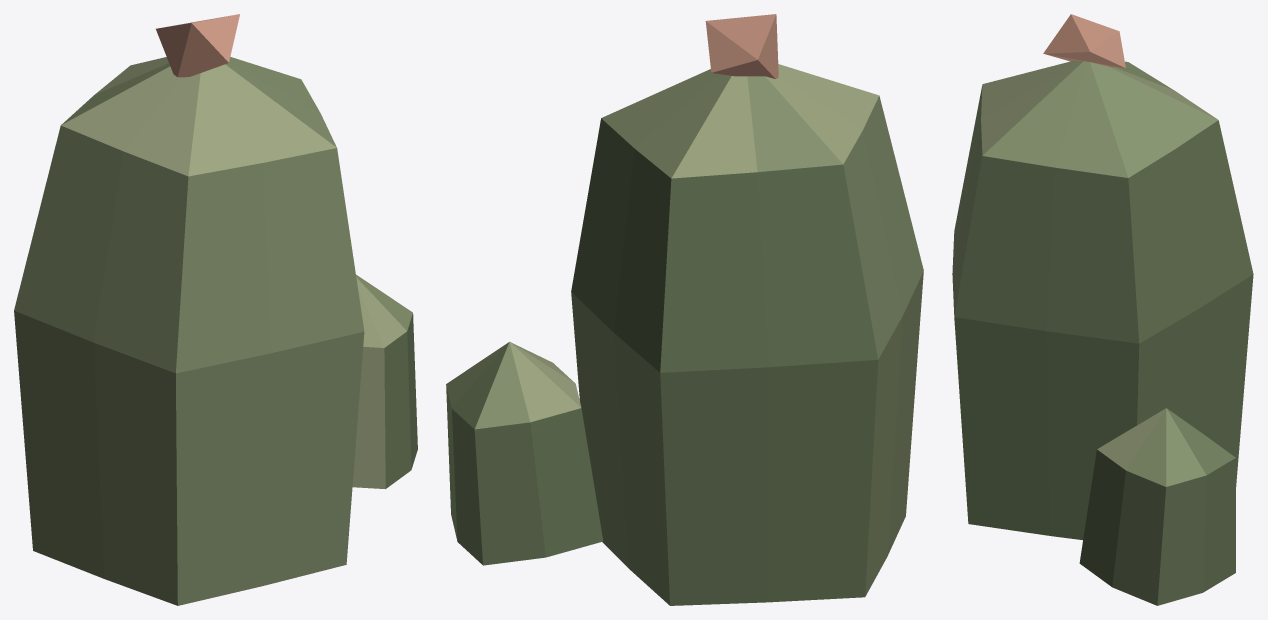
The model's file is prop_desert_cactus_0.glb.
The picture shows the model from 3 angles, left to right: view 1: azimuth 30°, elevation 25°; view 2: azimuth 150°, elevation 25°; view 3: azimuth 270°, elevation 25°; orthographic projection. The views are drawn at different scales.
Parts seen in each view (by area): view 1: Body; view 2: Body; view 3: Body.
Boxes of the visible parts, <box> form: Body: <box>14,14,417,605</box>; Body: <box>446,14,923,605</box>; Body: <box>952,14,1253,605</box>.
Size of the model in its own units: 0.4905 by 0.5994 by 0.3458.
